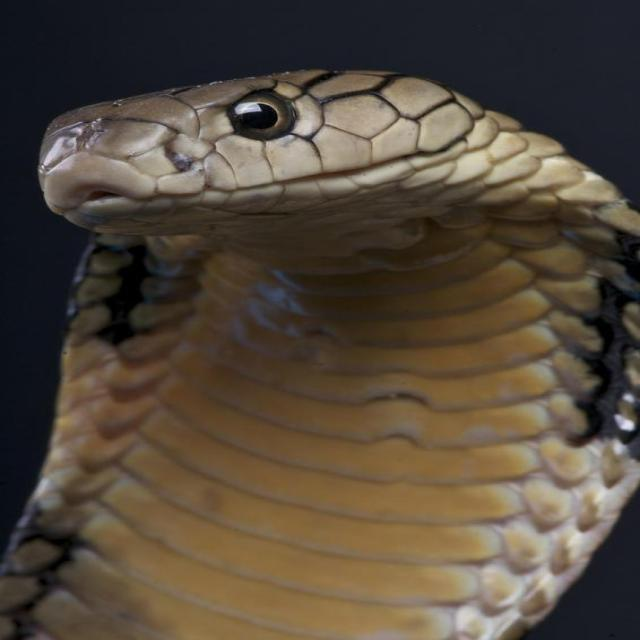Snake: (1, 66, 638, 638)
